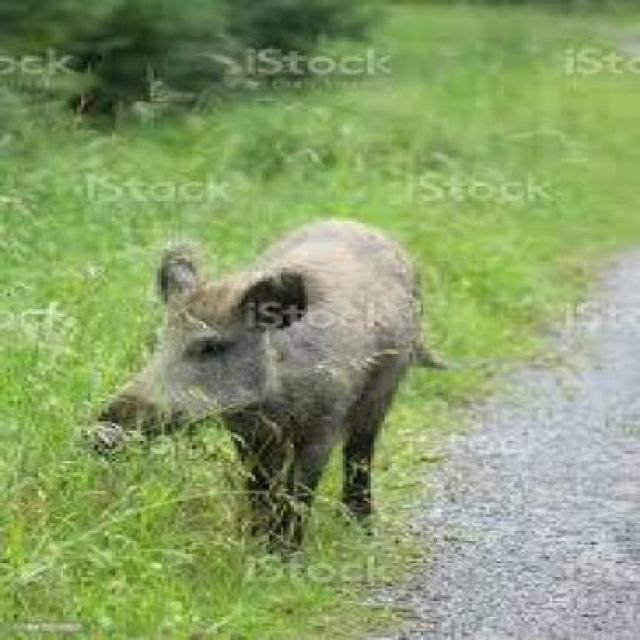wildboar: (77, 218, 471, 556)
